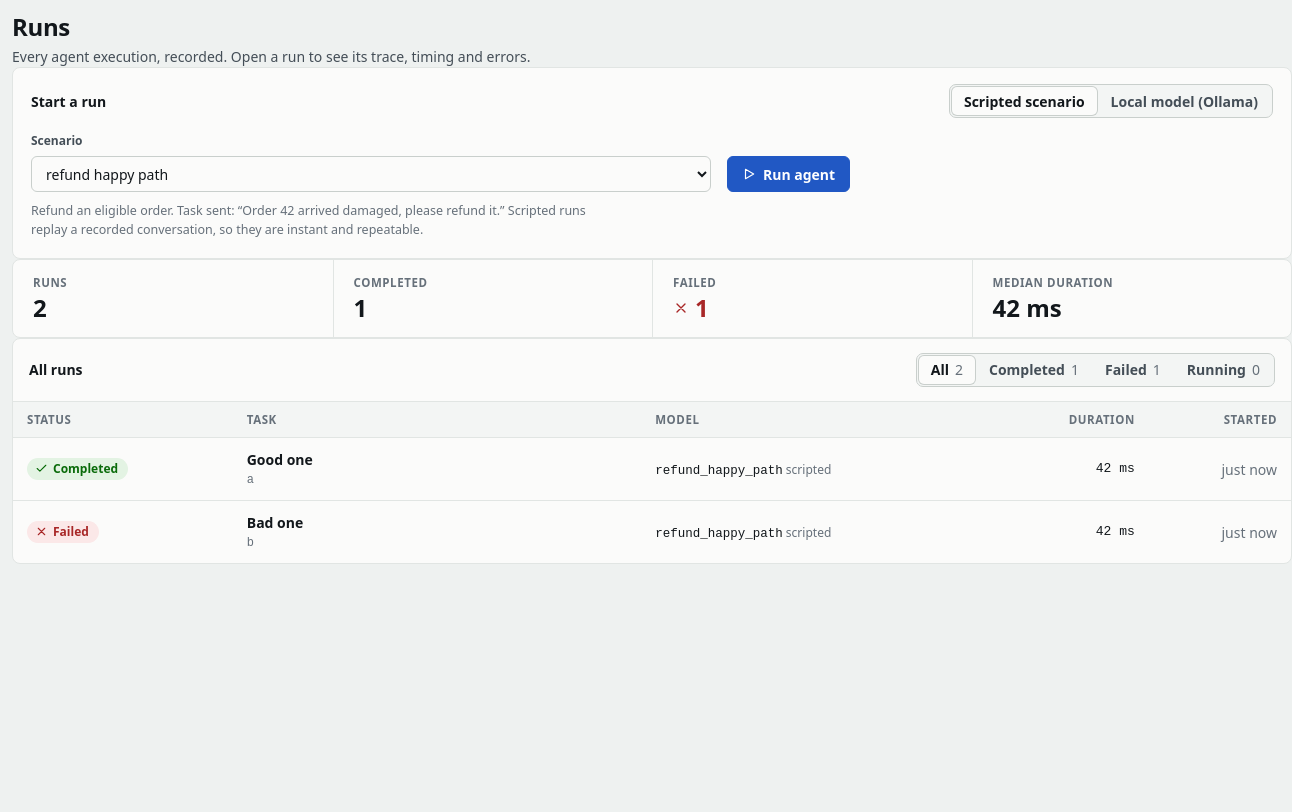
it: RunsPage › filters by status
Expected: the link "Good one" is shown, [247, 450, 313, 469]
Click the radio button labelled "Failed 1": (1133, 370) [1093, 356, 1173, 384]
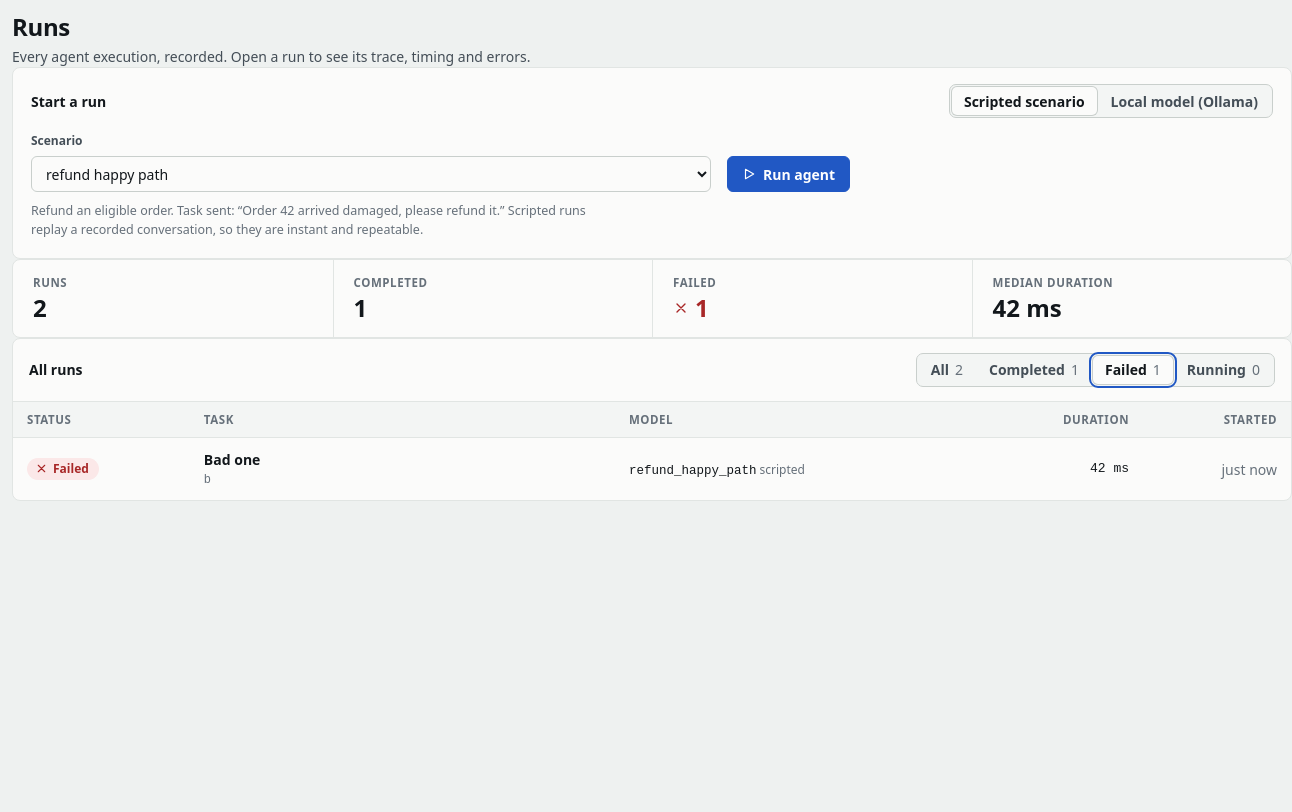
Expected: the link "Bad one" is shown, [204, 450, 260, 469]
Expected: the link "Good one" is gone
Click the radio button labelled "Running 0": (1223, 370) [1175, 356, 1272, 384]
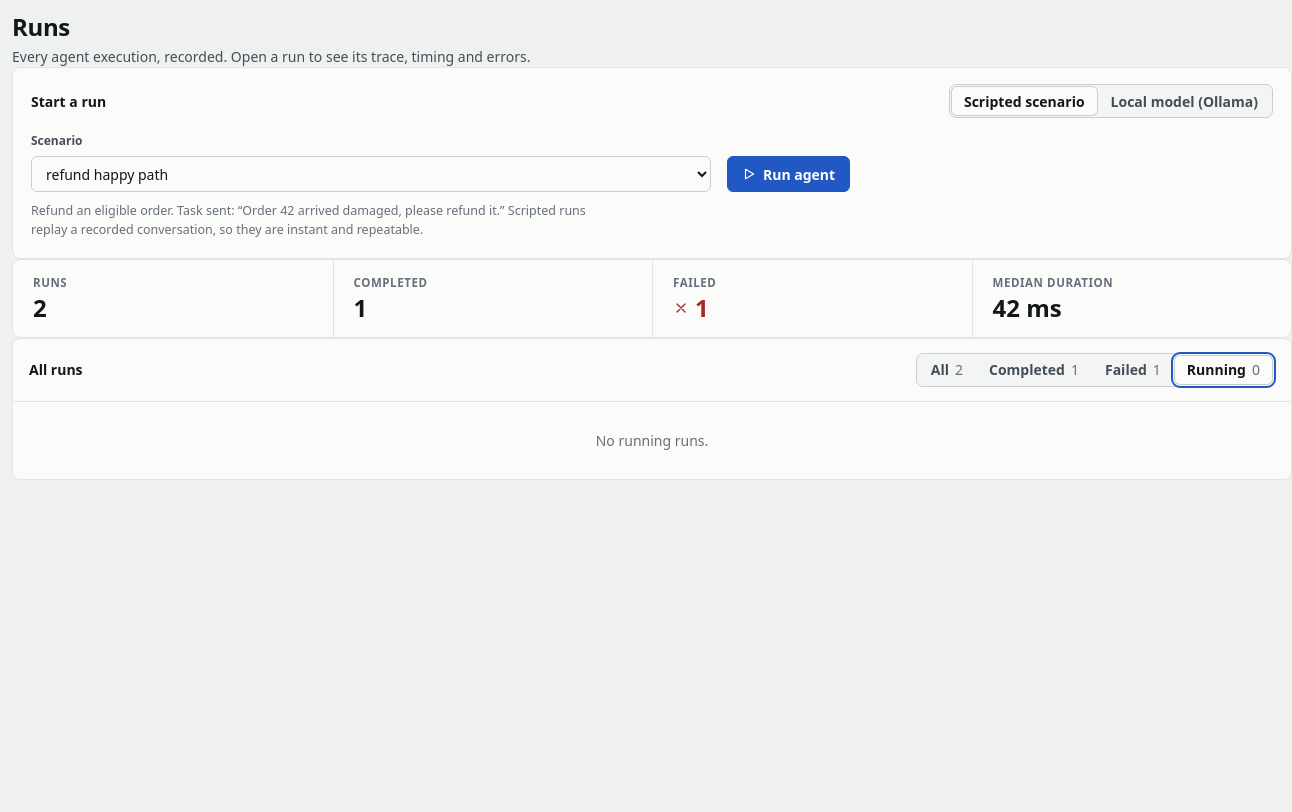
Expected: the text "No running runs." is shown, [13, 401, 1291, 479]
